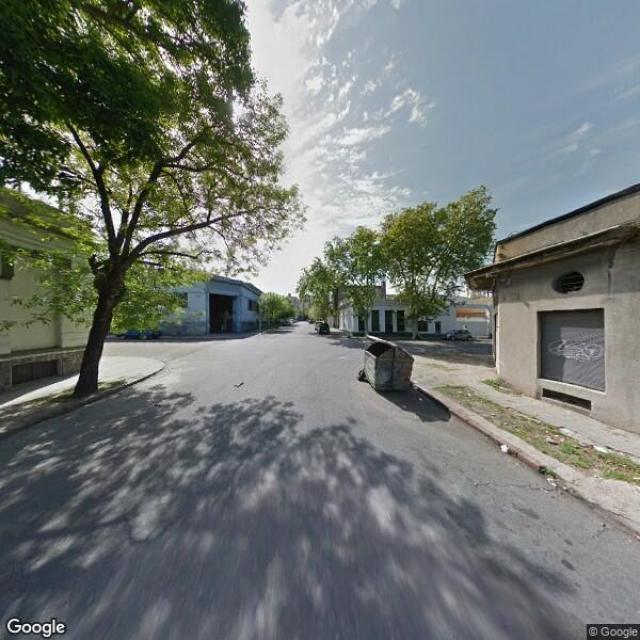garbage container: (353, 335, 421, 402)
